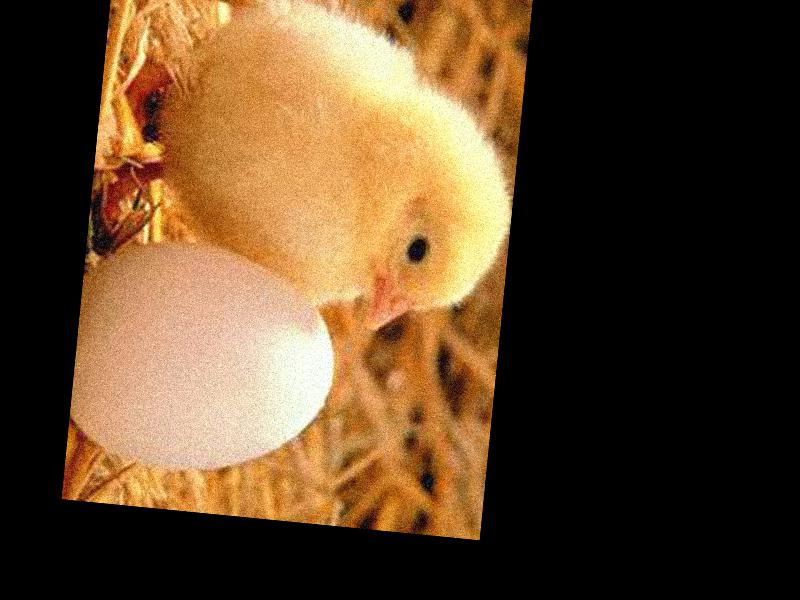Eggs: (65, 231, 346, 483)
